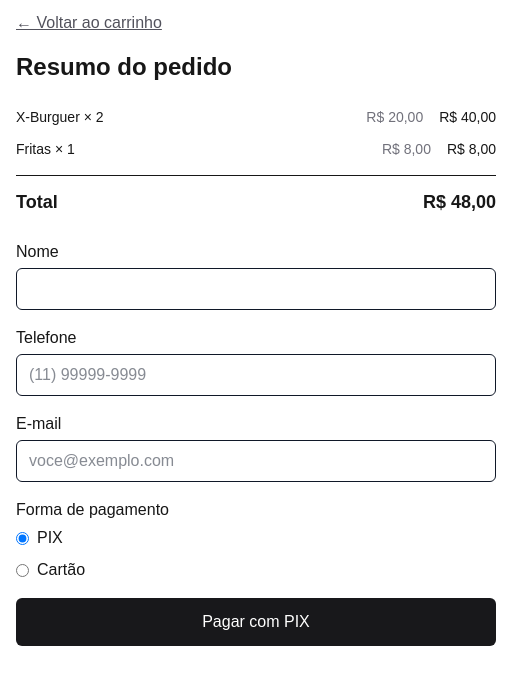
it: CheckoutPage › shows inline error if email is invalid on submit
The image size is (513, 699).
Type "João" into the field labelled "Nome" at (256, 289), box 16,268 -> 496,310
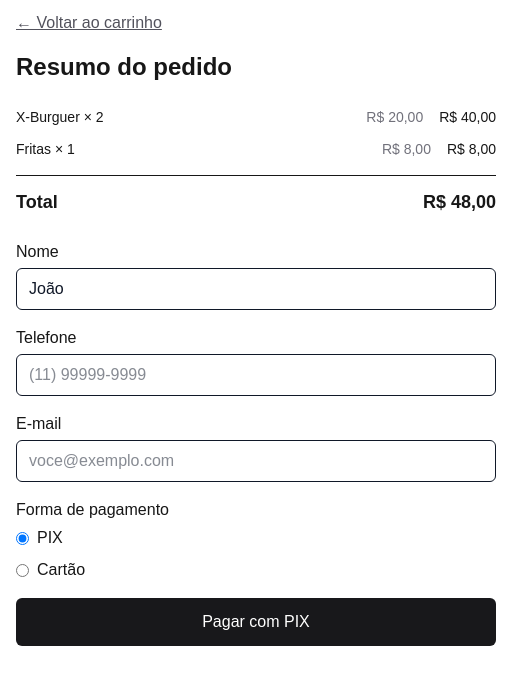
Type "11987654321" into the field labelled "Telefone" at (256, 375), box 16,354 -> 496,396
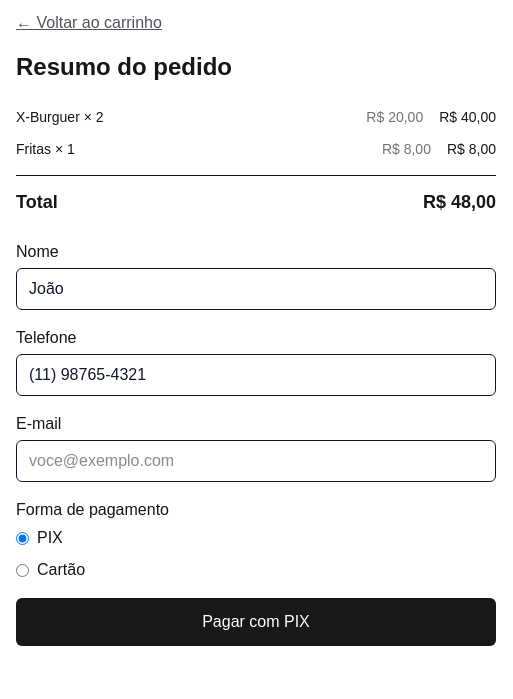
Type "not-an-email" into the field labelled "E-mail" at (256, 461), box 16,440 -> 496,482
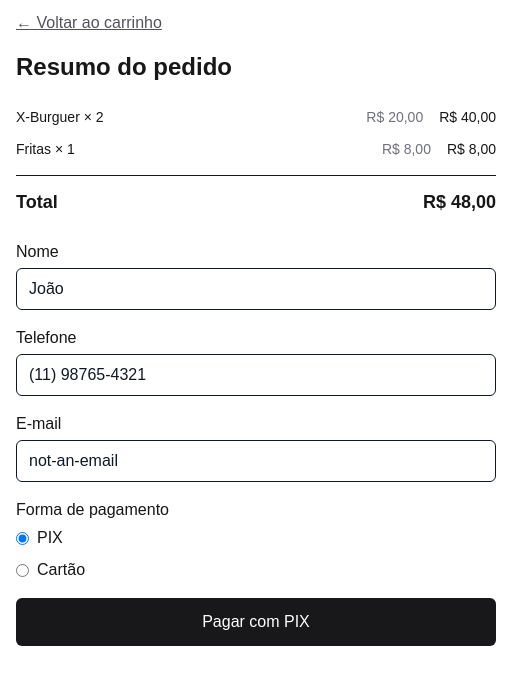
Submit the form "Pagar com PIX", box 16,240 -> 496,646
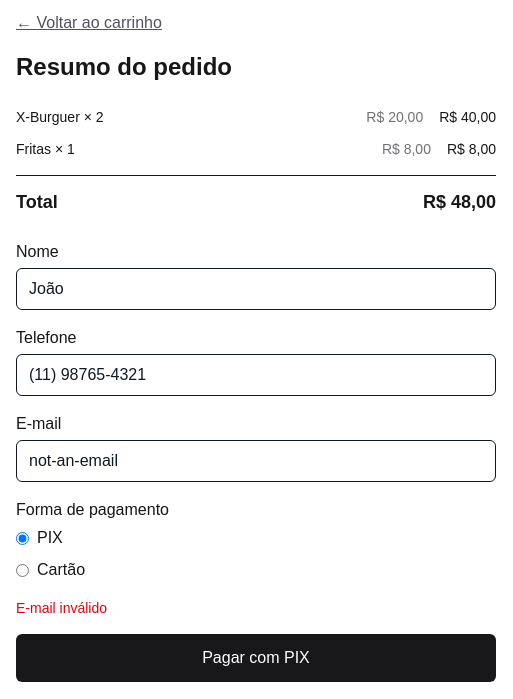
Check: the text "E-mail inválido" is shown, box 16,600 -> 107,616
